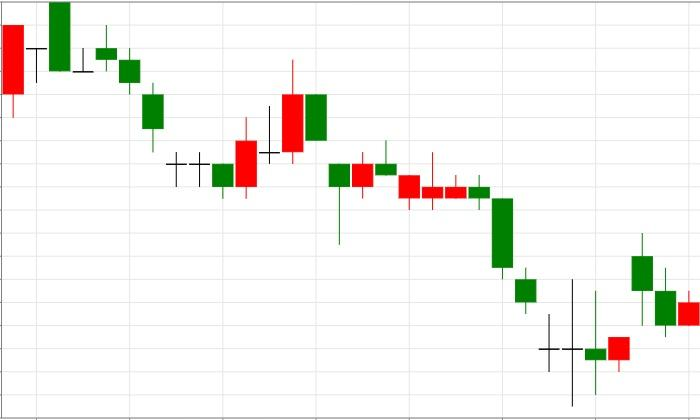bullish_engulfing_rise: (49, 2, 257, 199)
